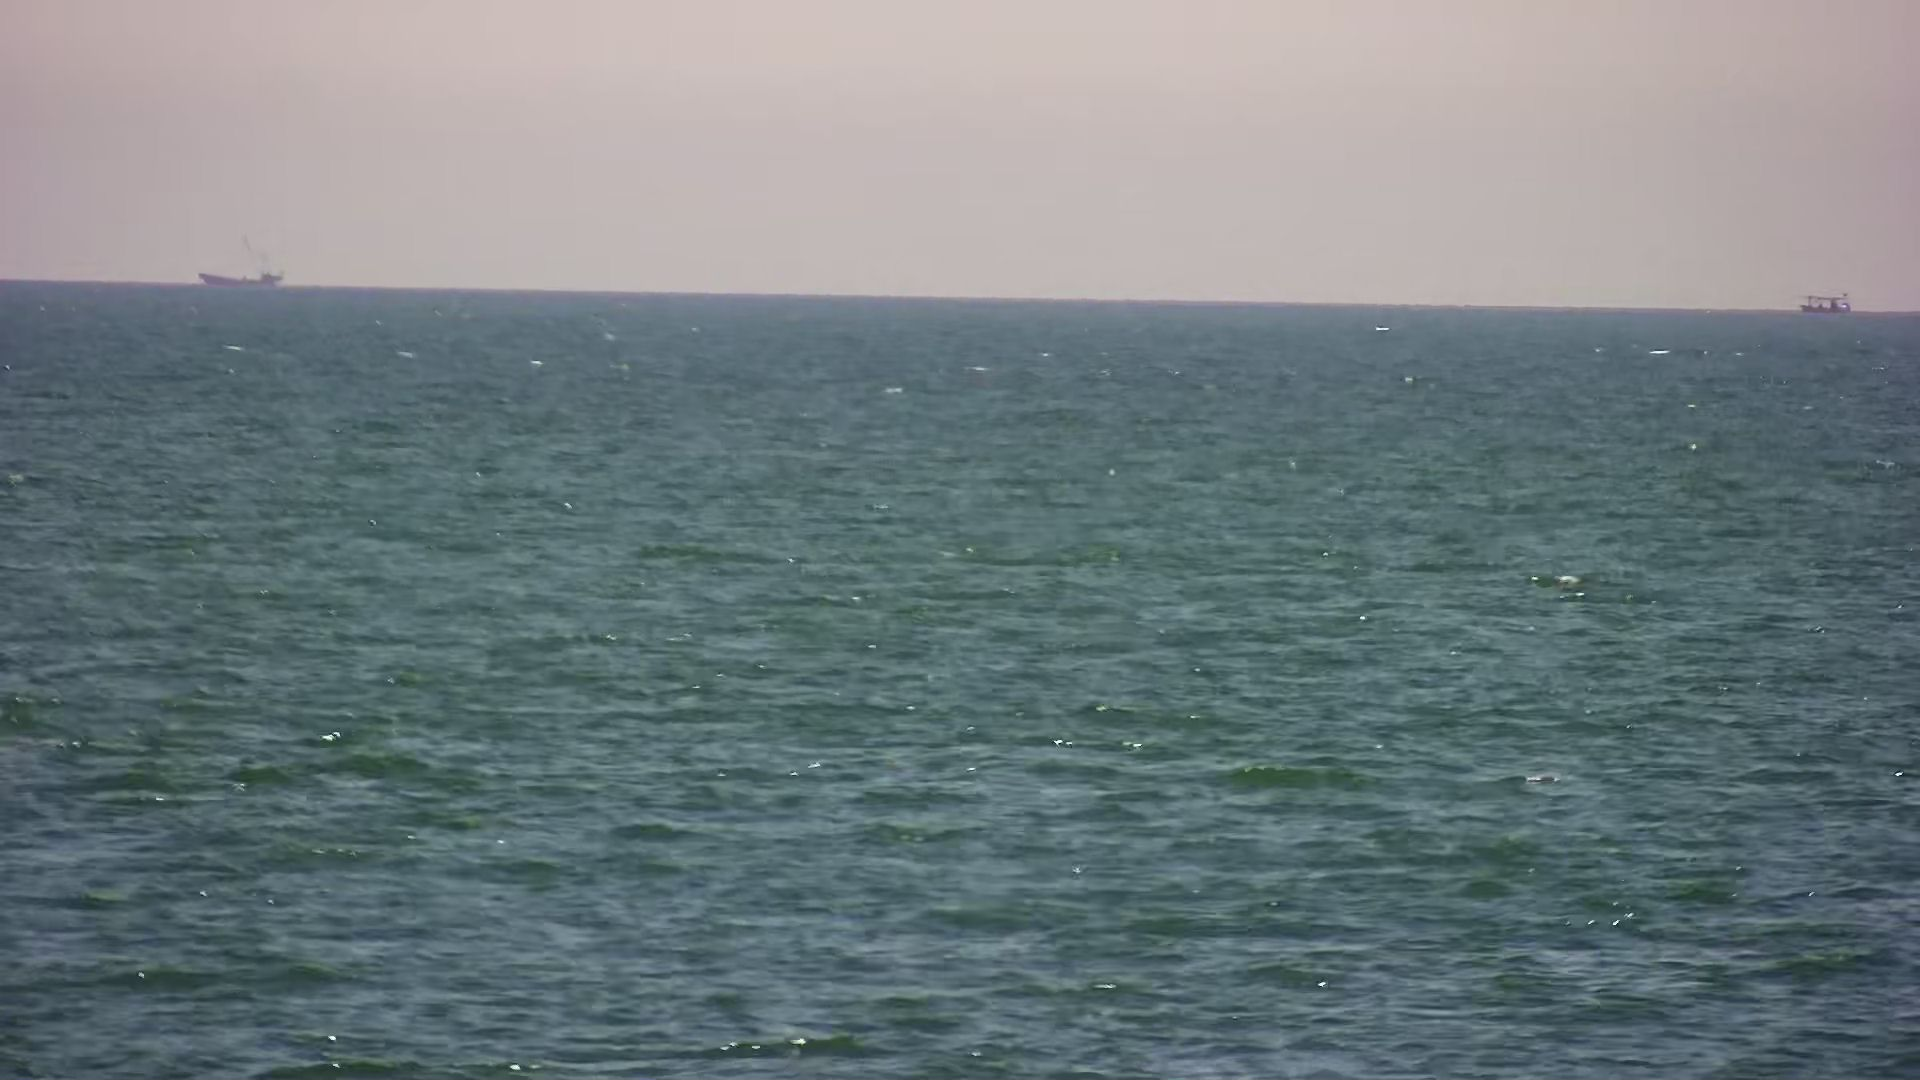platform: (1780, 278, 1870, 318)
ship: (195, 253, 306, 291)
